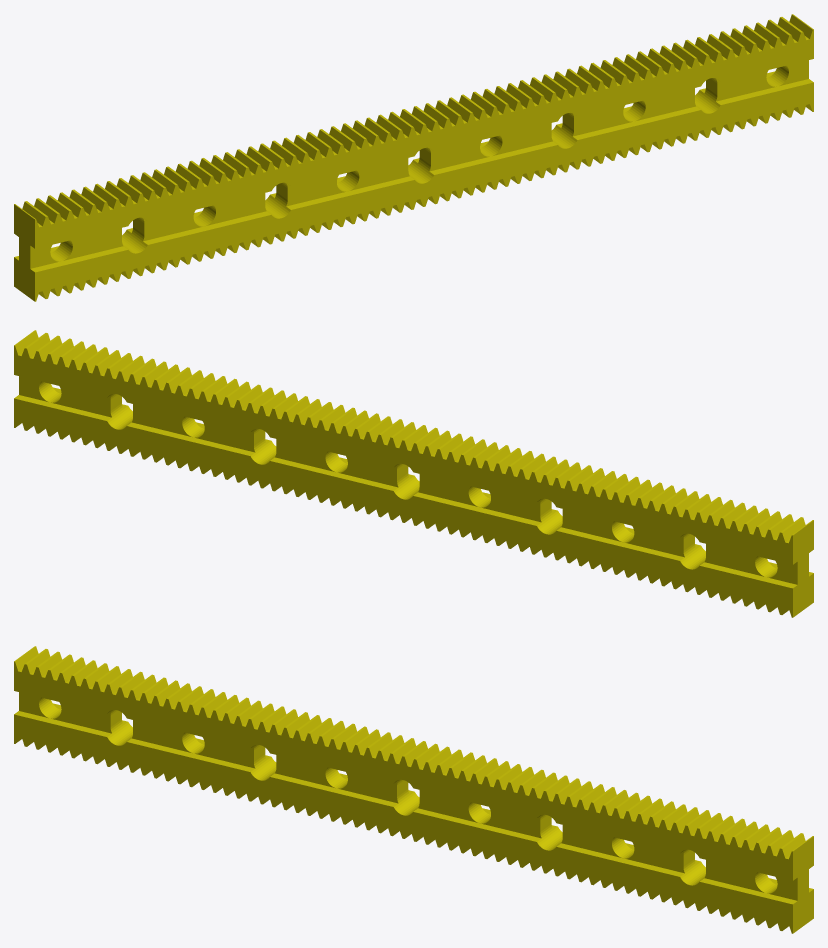
Rendered from ThanhTruot_Vang.glb.
3 views of the same model, one above another, from view 1: azimuth 30°, elevation 25°; view 2: azimuth 150°, elevation 25°; view 3: azimuth 330°, elevation 25° (orthographic).
Visible parts, largest first — view 1: defaultobject.001; view 2: defaultobject.001; view 3: defaultobject.001.
Boxes of the visible parts, box(x1,y1,x2,y2) form: defaultobject.001: box(14, 14, 813, 301); defaultobject.001: box(14, 330, 813, 617); defaultobject.001: box(14, 646, 813, 933).
Size of the model in its own units: 345 by 34.86 by 16.19.
